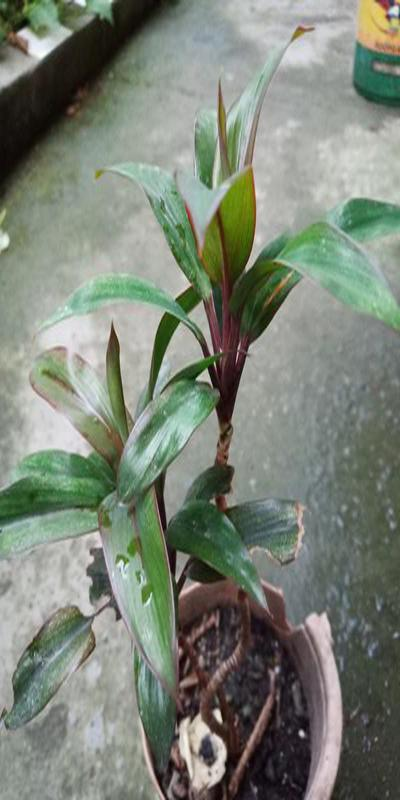Baston de san jose: (33, 106, 343, 764)
